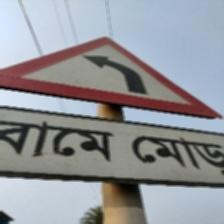Left-Turn: (1, 34, 223, 192)
